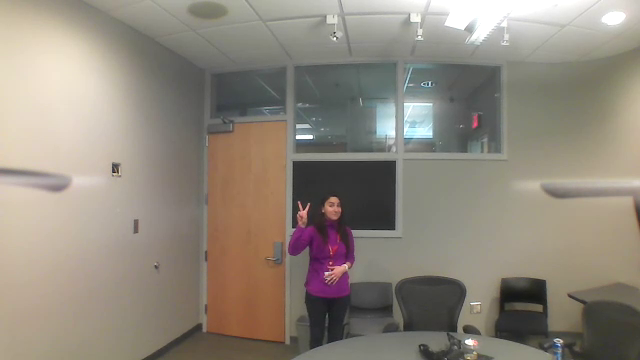peace: (292, 199, 313, 227)
